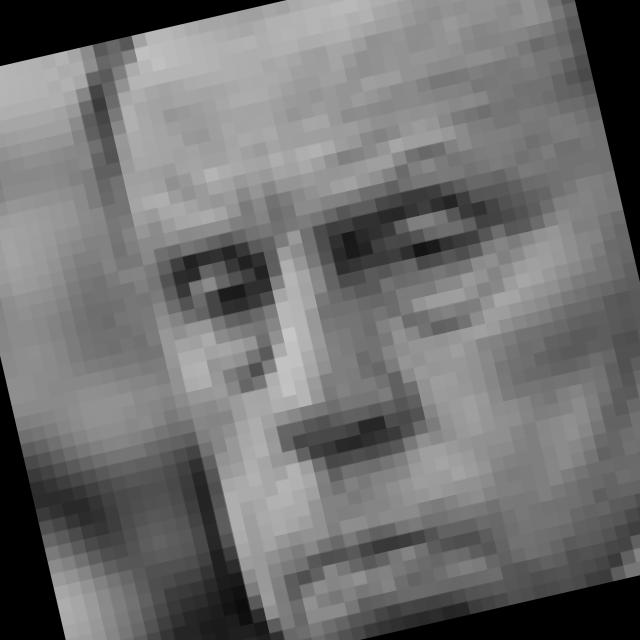disgust: (135, 119, 604, 640)
